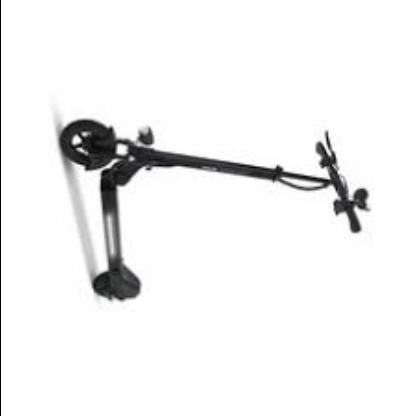bike: (57, 119, 377, 303)
